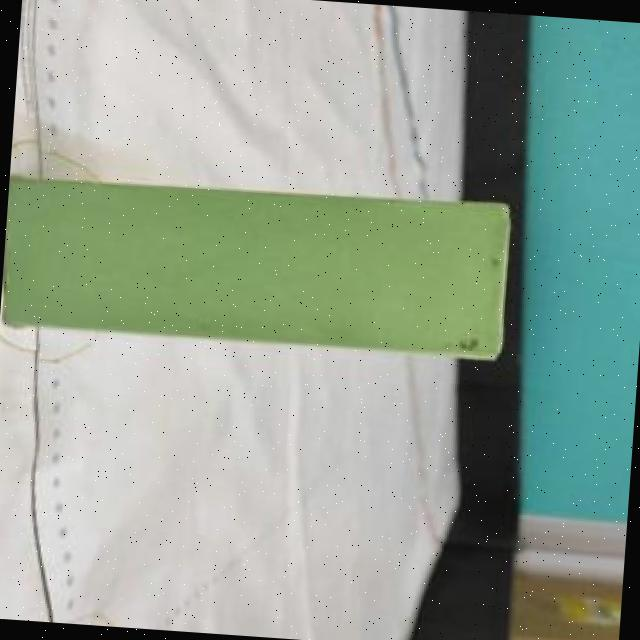greenbox: (0, 170, 514, 361)
